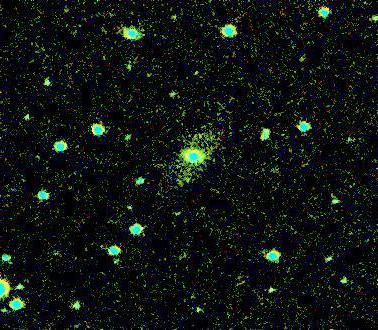star: (289, 45, 319, 75)
